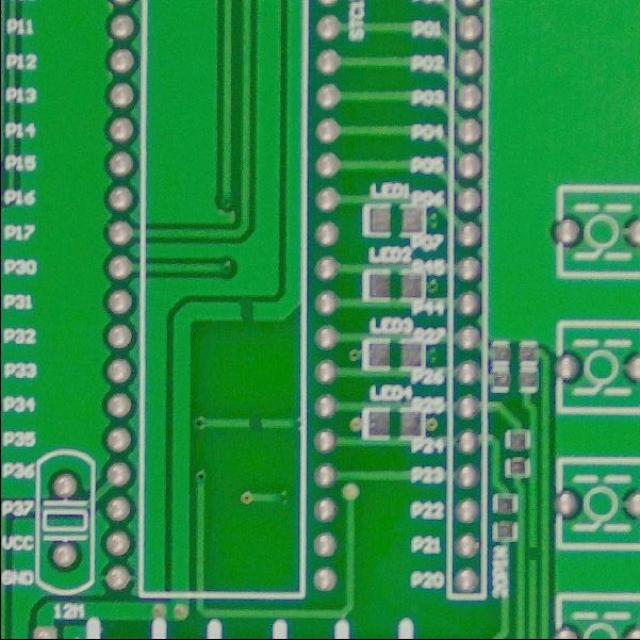open_circuit: (229, 299, 259, 329), (242, 412, 265, 438), (525, 544, 539, 566)
